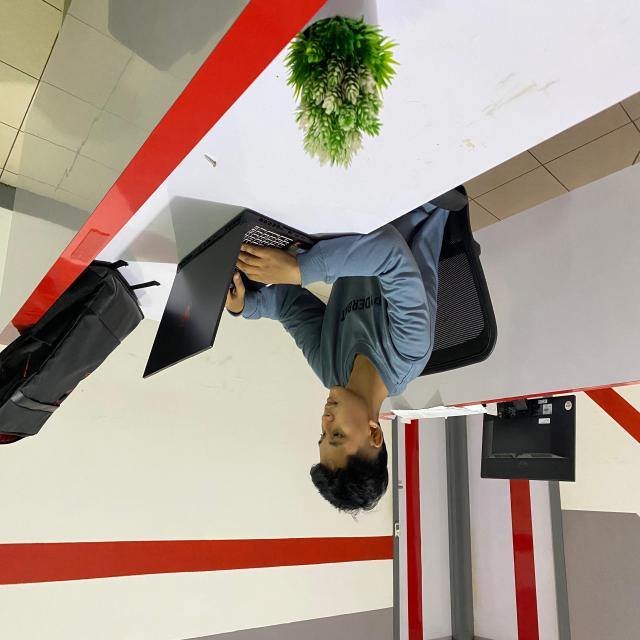nohelmet: (309, 385, 392, 520)
